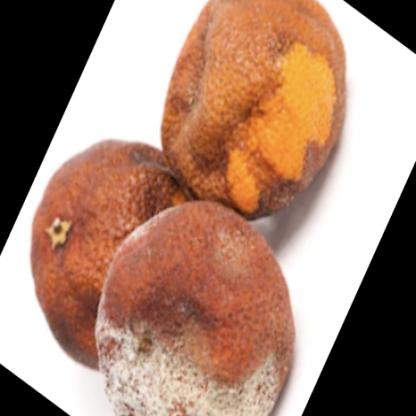rotten: (32, 2, 346, 416)
